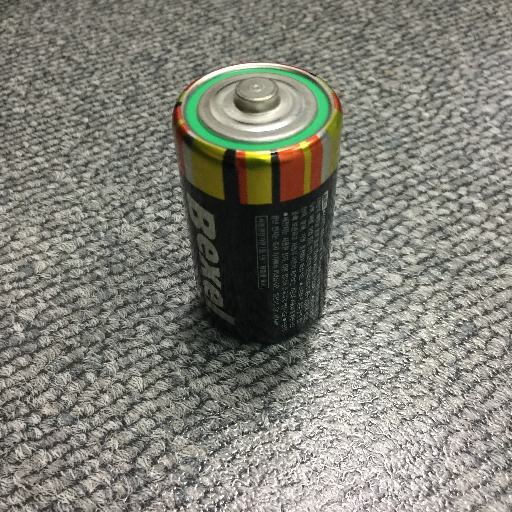Battery_0: (168, 56, 348, 351)
